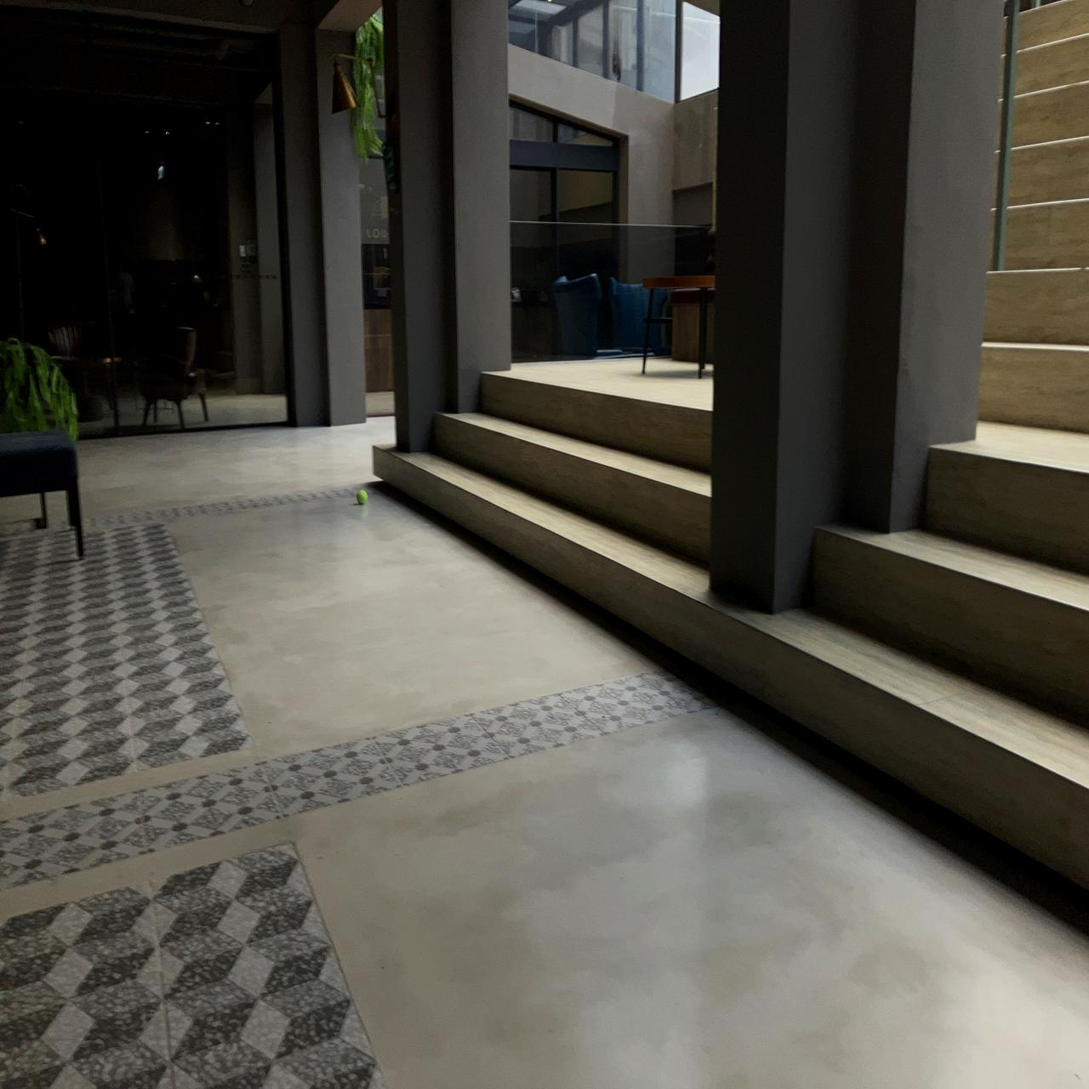tennisball: (356, 489, 368, 505)
